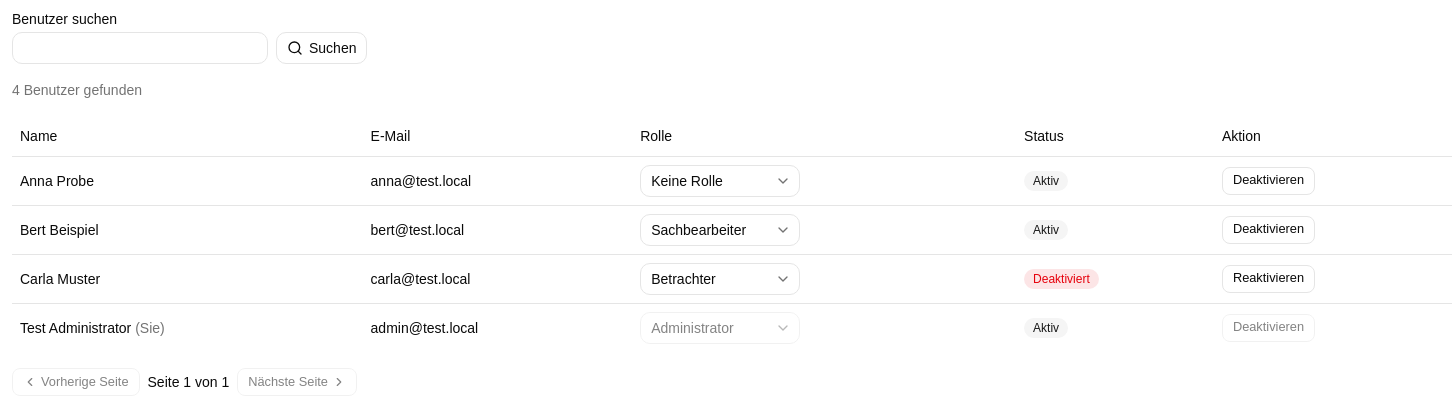
Test: Suche › zeigt nach der Suche nur die Treffer
In the search field labelled "Benutzer suchen": [140, 48] box [12, 32, 268, 64], type "bert"
Then press Enter
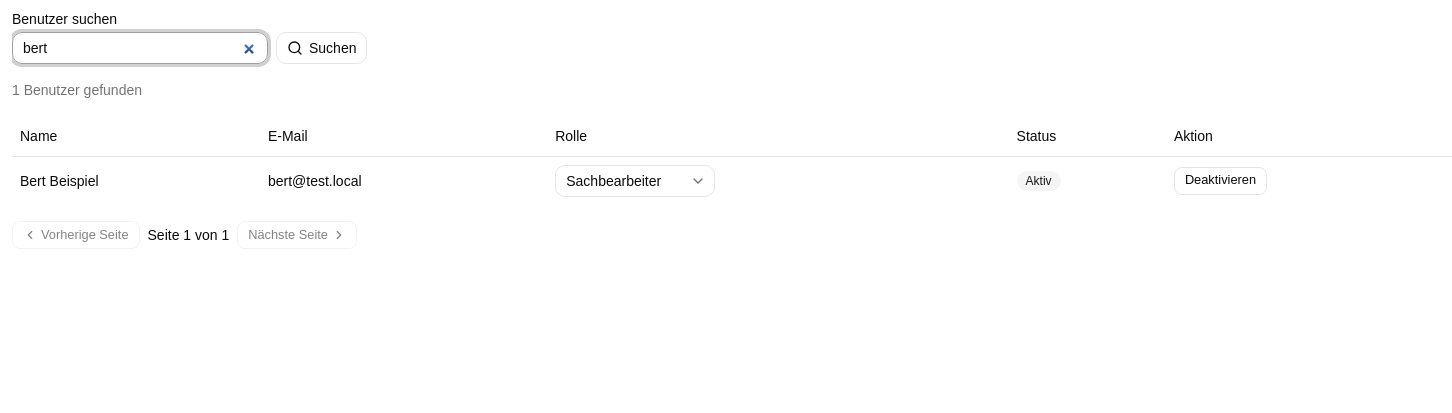
Expected: the text "Bert Beispiel" is shown, [12, 156, 260, 204]
Result: the text "Anna Probe" is gone
